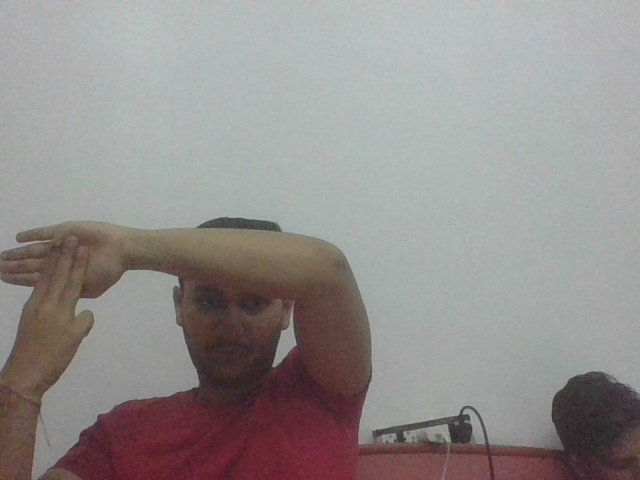M: (1, 214, 128, 375)
